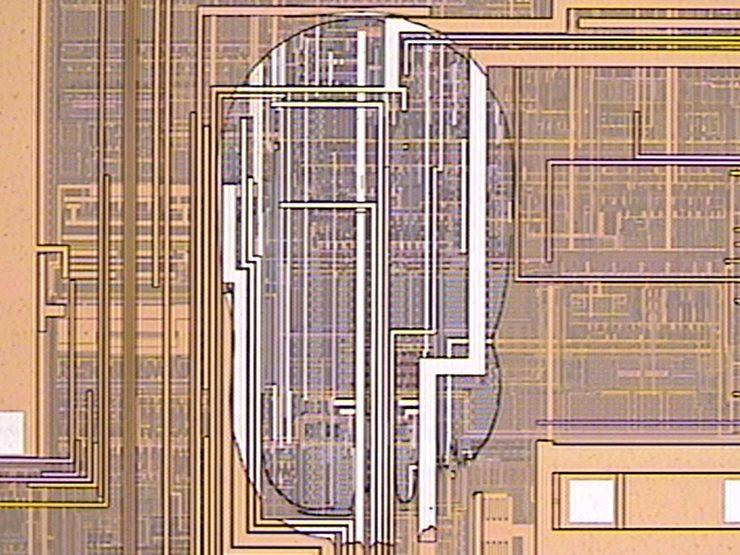BLOCK ETCH: (221, 11, 517, 546)
